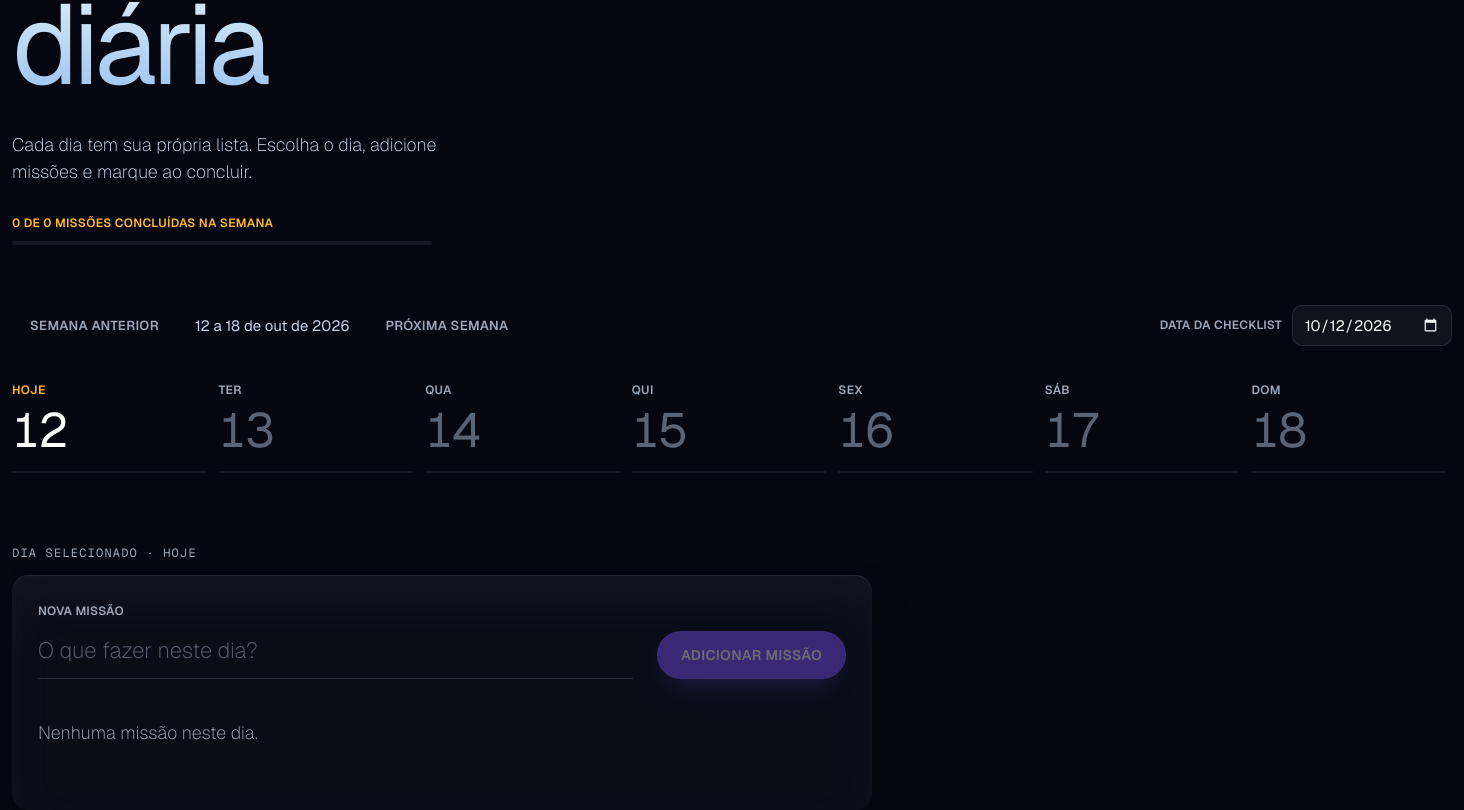
Test: ChecklistPage › loads the local current date, creates a trimmed item and keeps it visible
(page scrolled)
Type "  Ler livro  " into the field labelled "Nova missão".
click(335, 652); type("  Ler livro  ")  # box [38, 626, 633, 679]
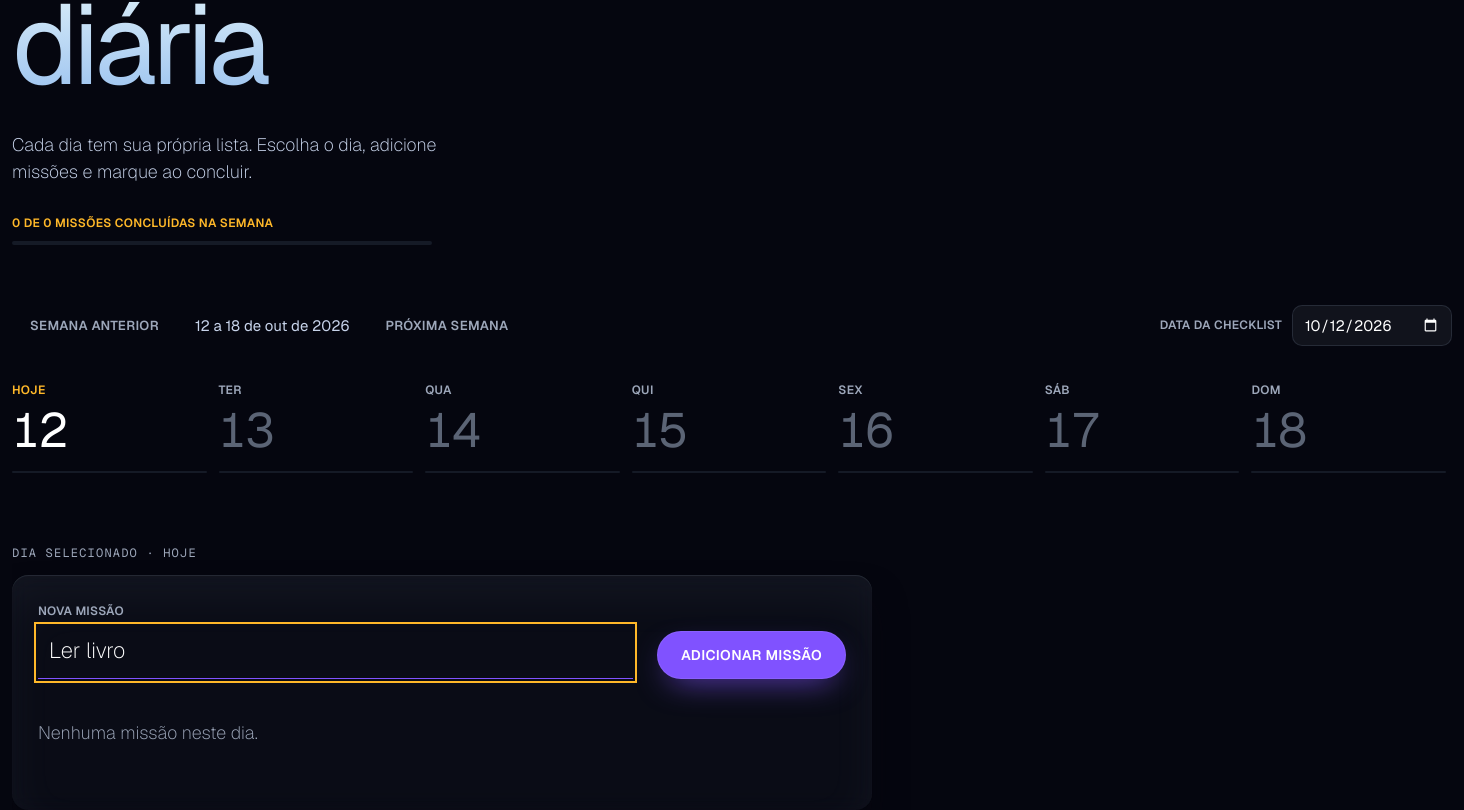
Click the button "Adicionar missão".
click(751, 655)  # box [657, 631, 846, 679]
(page scrolled)
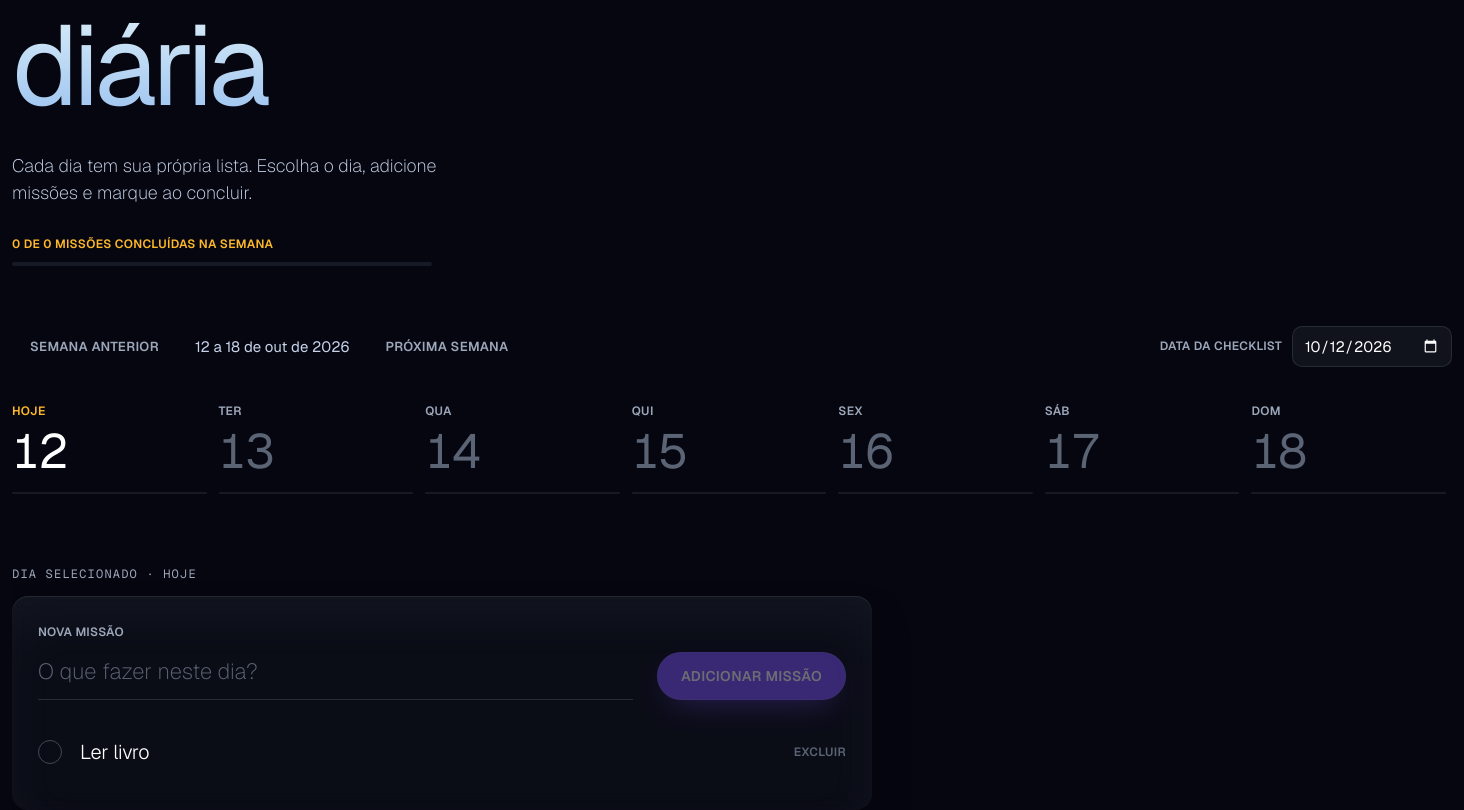
Check: the text "Ler livro" is shown, box [80, 739, 149, 765]
Check: the field labelled "Nova missão" is empty, box [38, 647, 633, 700]
